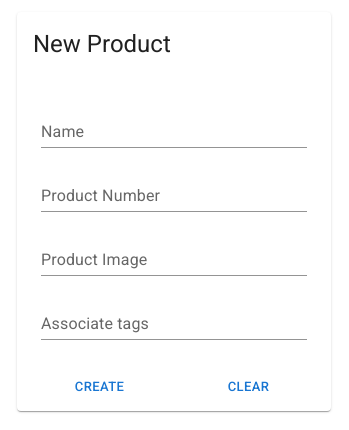
Scenario: test NewProductPage › if it renders › should clear all fields on clear click
Type "new product name" into the field with test id "textField-product-name" at {"x": 174, "y": 132}, box [41, 116, 307, 148]
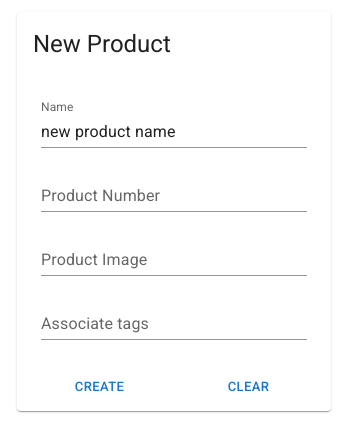
Type "123" into the field with test id "textField-product-number" at {"x": 174, "y": 196}, box [41, 180, 307, 212]
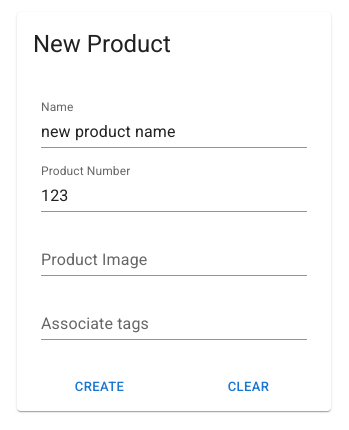
Type "http://some.image/123.png" into the field with test id "textField-product-image" at {"x": 174, "y": 260}, box [41, 244, 307, 276]
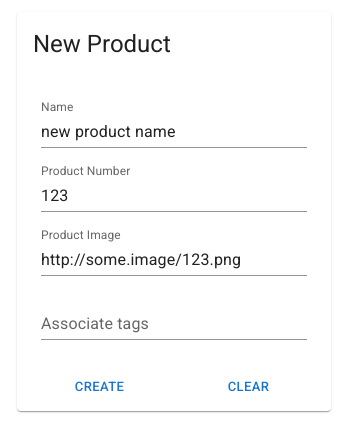
Click the button "Clear" at {"x": 248, "y": 387}, box [216, 372, 280, 403]
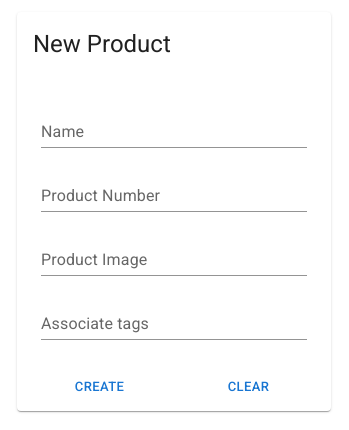
Now the field with test id "textField-product-name" is empty, box [41, 116, 307, 148]
Now the field with test id "textField-product-number" is empty, box [41, 180, 307, 212]
Now the field with test id "textField-product-image" is empty, box [41, 244, 307, 276]
